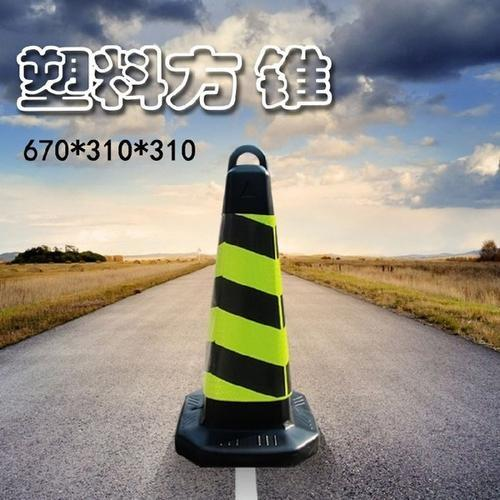cone_barrel: (171, 140, 326, 461)
